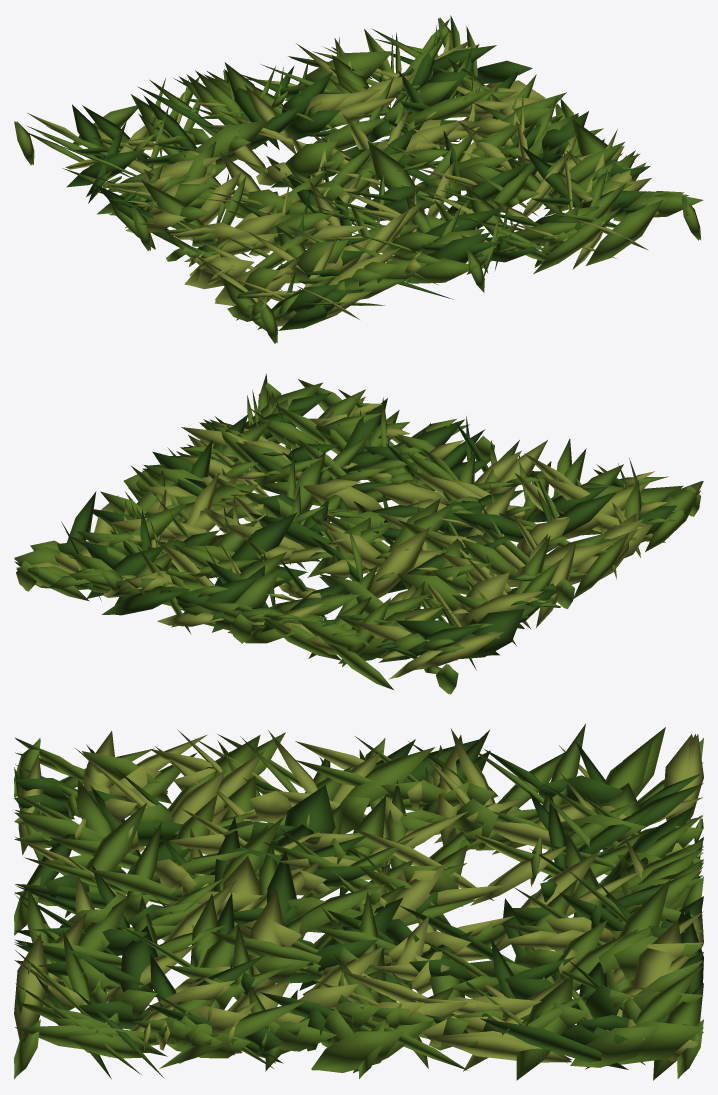
The model's file is MV_Grass_Lawn_1x1m.fbx.
3 views of the same model, one above another, from view 1: azimuth 30°, elevation 25°; view 2: azimuth 150°, elevation 25°; view 3: azimuth 270°, elevation 25° (orthographic). The views are drawn at different scales.
Parts seen in each view (by area): view 1: LOD0_Mesh, LOD1_Mesh, LOD2_Mesh; view 2: LOD0_Mesh, LOD1_Mesh, LOD2_Mesh; view 3: LOD0_Mesh, LOD1_Mesh, LOD2_Mesh.
Part boxes in pixels (x1,y1,x2,y2): LOD0_Mesh: [14, 17, 700, 343]; LOD1_Mesh: [15, 18, 703, 343]; LOD2_Mesh: [16, 15, 698, 342]; LOD0_Mesh: [14, 383, 703, 694]; LOD1_Mesh: [14, 373, 702, 693]; LOD2_Mesh: [14, 383, 700, 693]; LOD0_Mesh: [14, 723, 703, 1080]; LOD1_Mesh: [14, 729, 703, 1080]; LOD2_Mesh: [14, 734, 703, 1074].
Bounding box in the file's own units: 1 × 0.1079 × 1.
